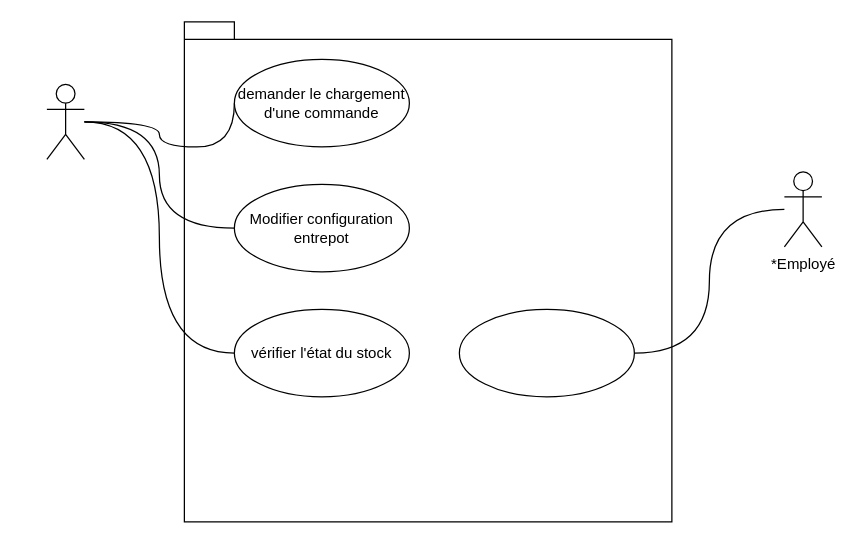
The diagram is 856 pixels wide and 544 high, and some of its shapes have lost their labels. Each missing label, with the centre of its shape:
Recevoir les arrivés: point 546,352
Responsable: point 65,121
